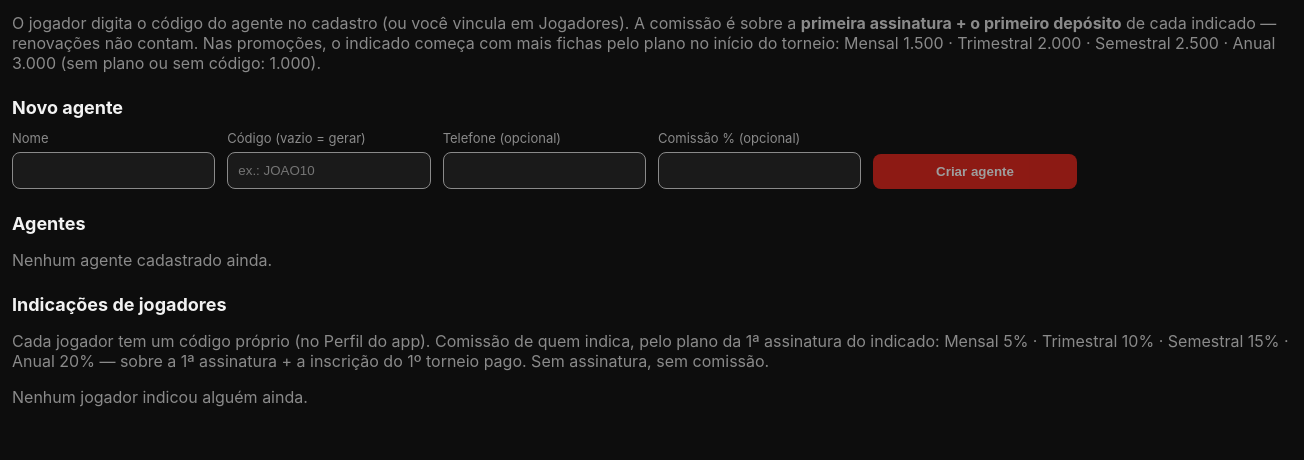
Scenario: Agents tab › shows the server's reason when the code is taken
Expected: the text "Nenhum agente cadastrado ainda." is shown, [12,250,272,270]
Step 1. Type "Outro" into the field labelled "Nome" → (114, 170), box [12,152,215,189]
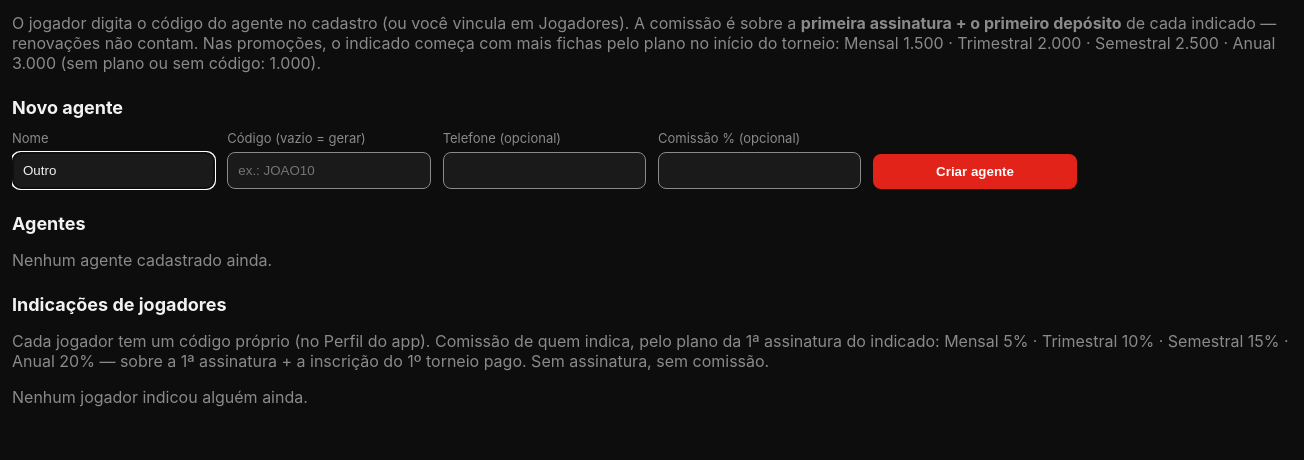
Step 2. Type "JOAO10" into the field labelled "Código (vazio = gerar)" → (329, 170), box [227,152,431,189]
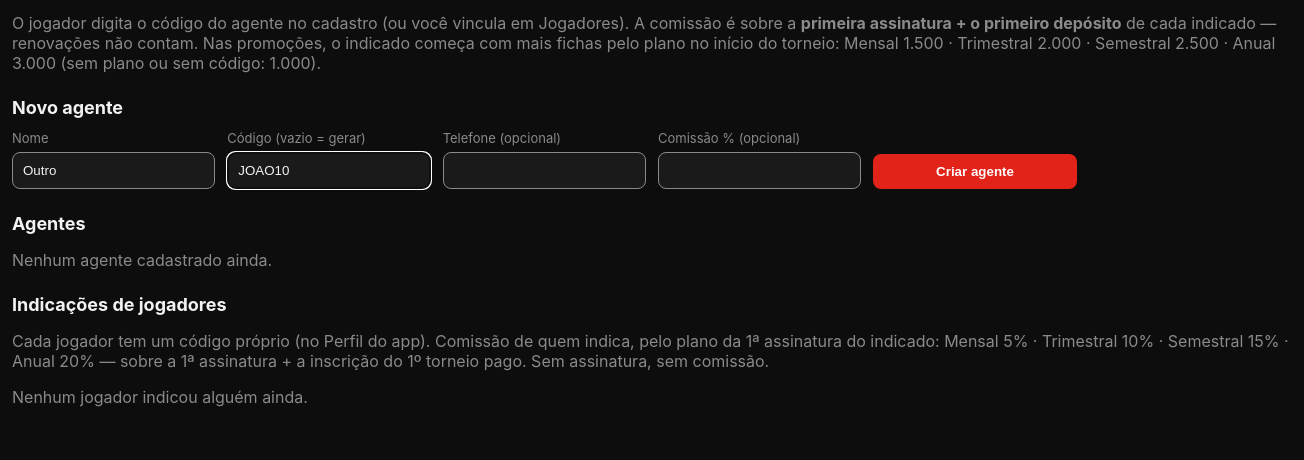
Step 3. Click the button "Criar agente" → (975, 172), box [873,154,1077,189]
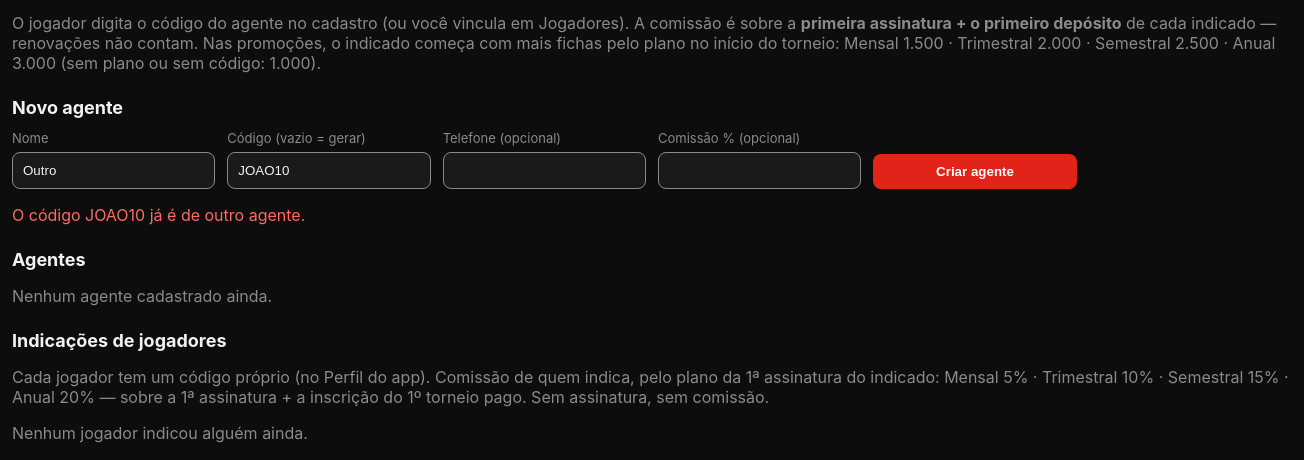
Result: the text "O código JOAO10 já é de outro agente." is shown at [12,205,305,225]
